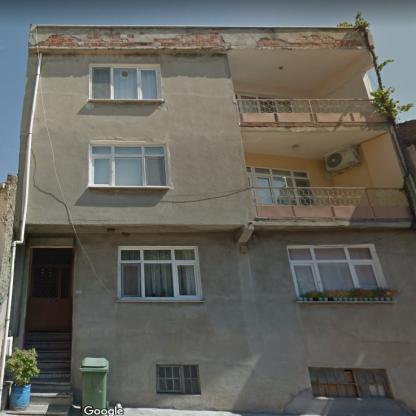door: (27, 248, 72, 330)
window: (288, 245, 388, 296), (119, 247, 200, 299), (90, 144, 168, 186), (247, 166, 315, 204), (90, 65, 161, 99), (310, 368, 390, 396), (157, 366, 198, 393), (236, 94, 292, 112)
